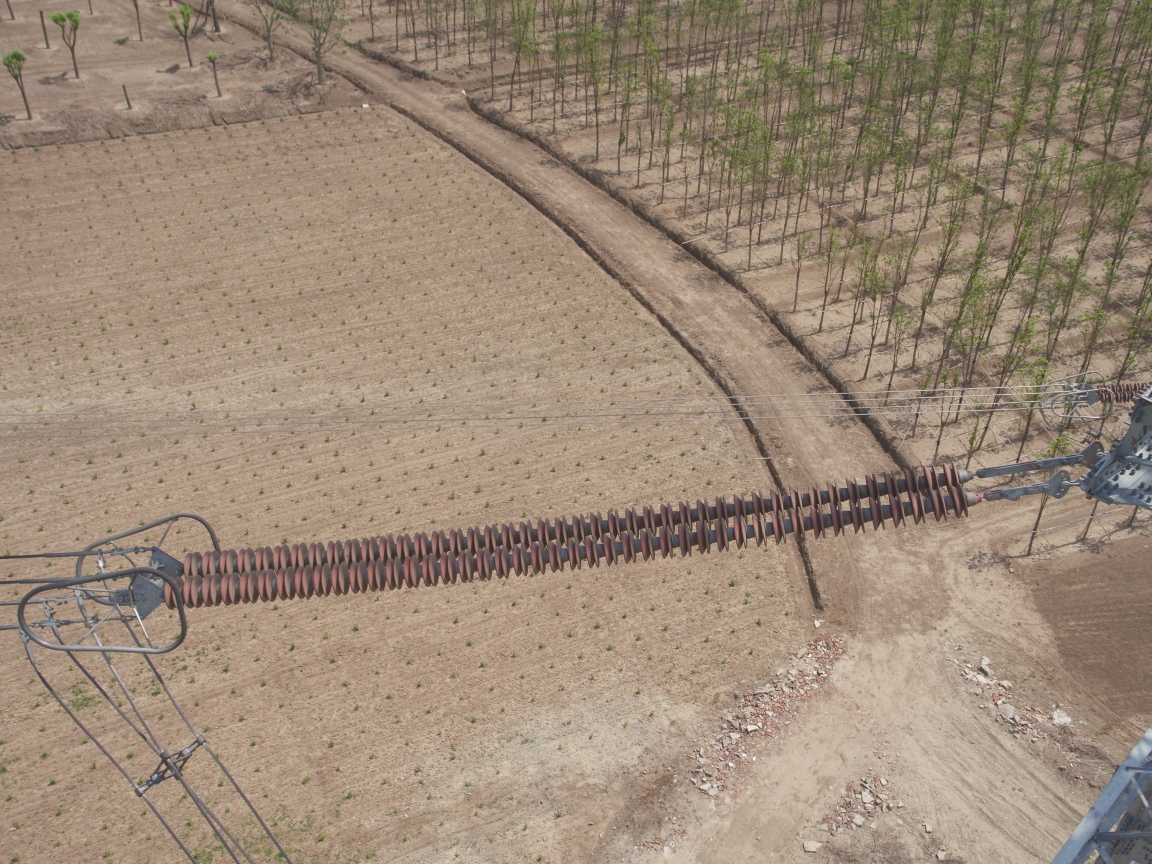insulator: (151, 458, 1012, 616)
